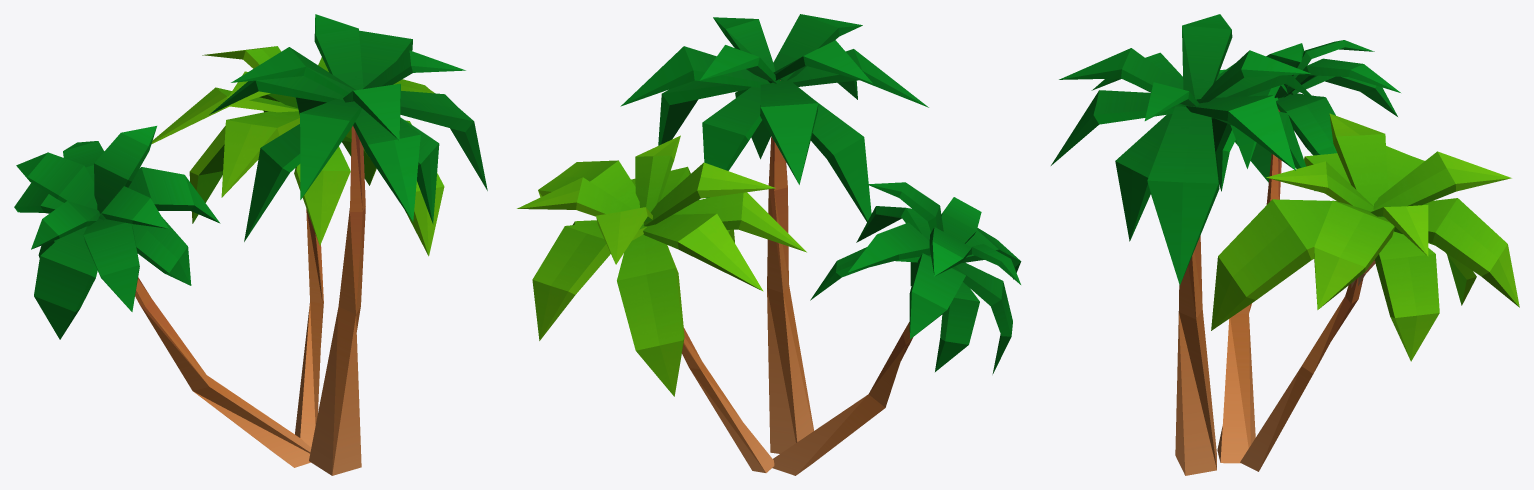
Rendered from GL-Palmtree-04-LOD3.fbx.
3 views of the same model, side by side, from view 1: azimuth 30°, elevation 25°; view 2: azimuth 150°, elevation 25°; view 3: azimuth 270°, elevation 25° (orthographic). The views are drawn at different scales.
Visible parts, largest first — view 1: GL_Palmtree_04; view 2: GL_Palmtree_04; view 3: GL_Palmtree_04.
Part boxes in pixels (x1=…): GL_Palmtree_04: x1=14, y1=14, x2=487, y2=475; GL_Palmtree_04: x1=517, y1=14, x2=1021, y2=475; GL_Palmtree_04: x1=1051, y1=14, x2=1519, y2=475.
Bounding box in the file's own units: 7.56 × 6.55 × 6.58.
